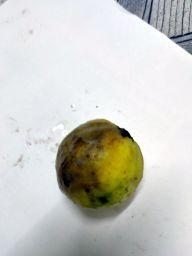guava: (53, 116, 147, 215)
